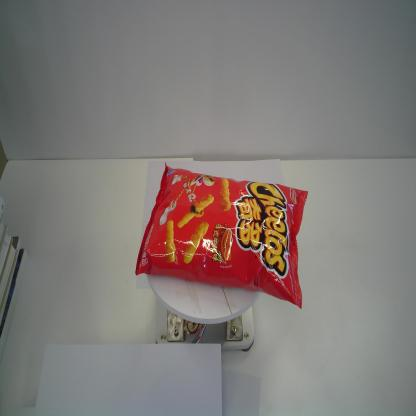Puffed Food: (134, 158, 309, 312)
